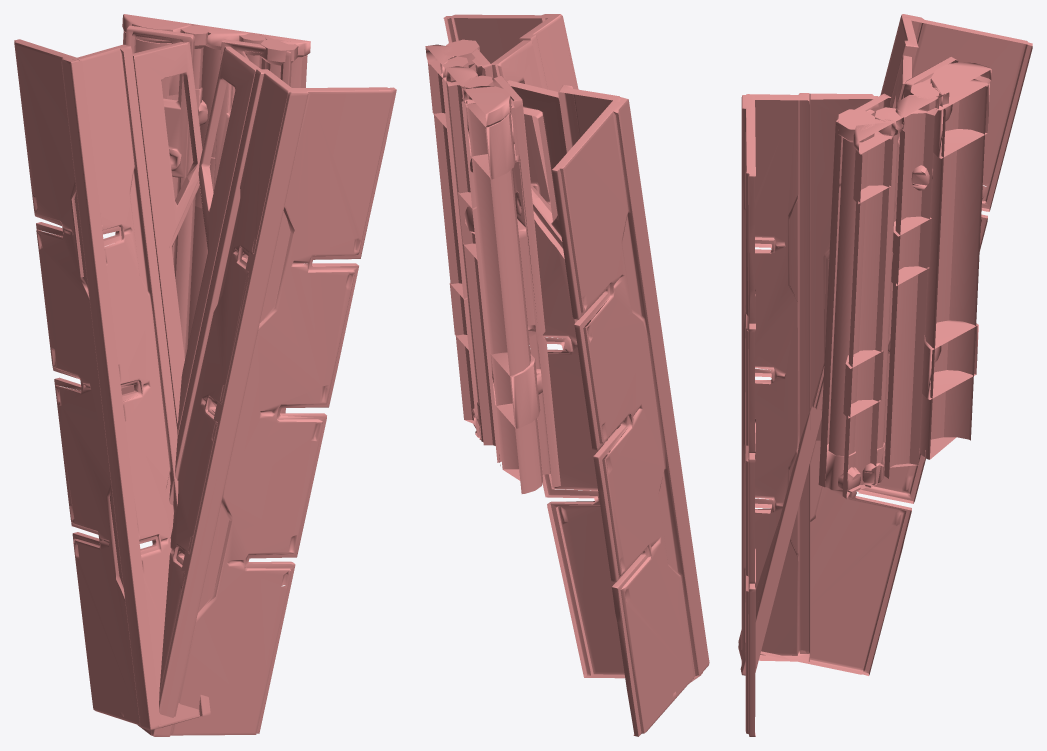
File: Final_Corner_02.fbx
3 views of the same model, side by side, from view 1: azimuth 30°, elevation 25°; view 2: azimuth 150°, elevation 25°; view 3: azimuth 270°, elevation 25° (orthographic). The views are drawn at different scales.
Parts seen in each view (by area): view 1: Combined_F61671A3; view 2: Combined_F61671A3; view 3: Combined_F61671A3.
Part boxes in pixels (x1=…): Combined_F61671A3: x1=14, y1=14, x2=396, y2=736; Combined_F61671A3: x1=425, y1=14, x2=709, y2=736; Combined_F61671A3: x1=738, y1=14, x2=1032, y2=736.
Size of the model in its own units: 385 by 942 by 377.
